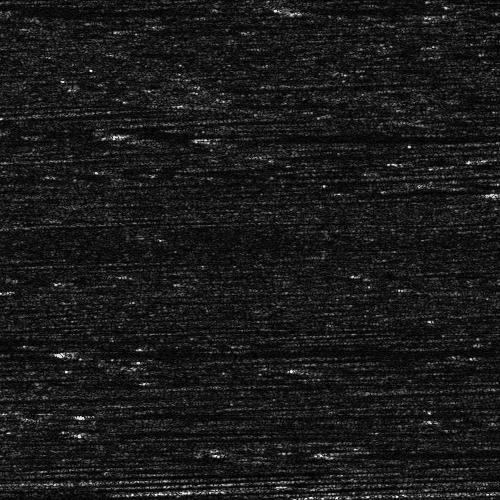object: (323, 446, 354, 459)
shadow: (339, 446, 431, 459)
